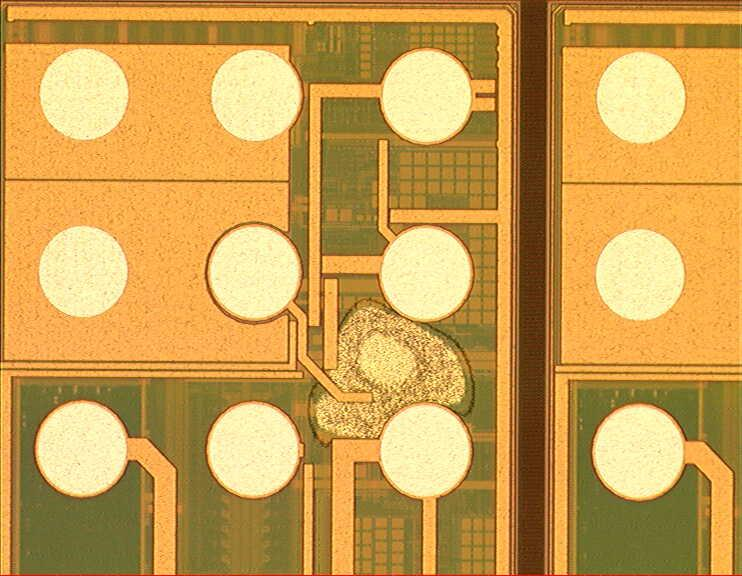BLOCK ETCH: (306, 297, 485, 451)
